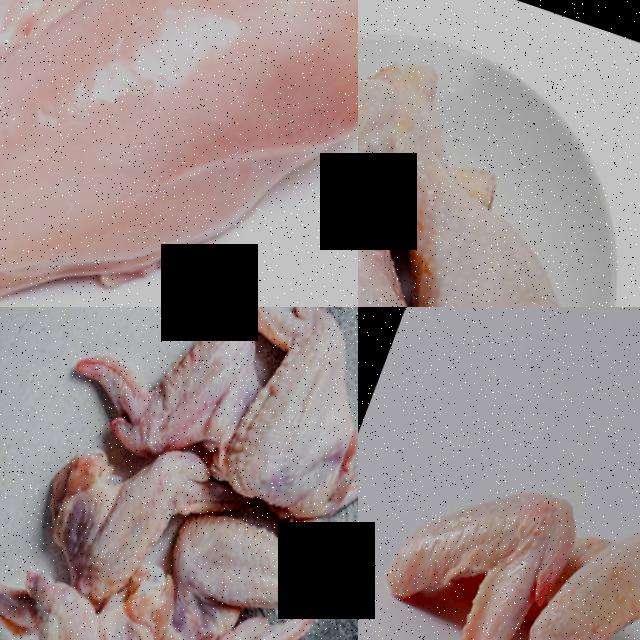chicken breast: (0, 0, 358, 307)
chicken thigh: (358, 65, 558, 307), (358, 141, 636, 307)
chicken wing: (360, 443, 587, 640), (17, 411, 206, 605), (58, 307, 278, 464), (210, 307, 358, 532), (499, 476, 640, 640), (0, 539, 157, 640), (89, 587, 289, 640)
